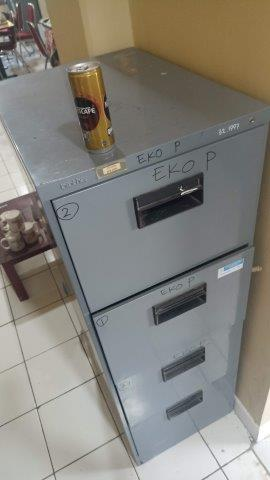kaleng: (67, 60, 116, 154)
